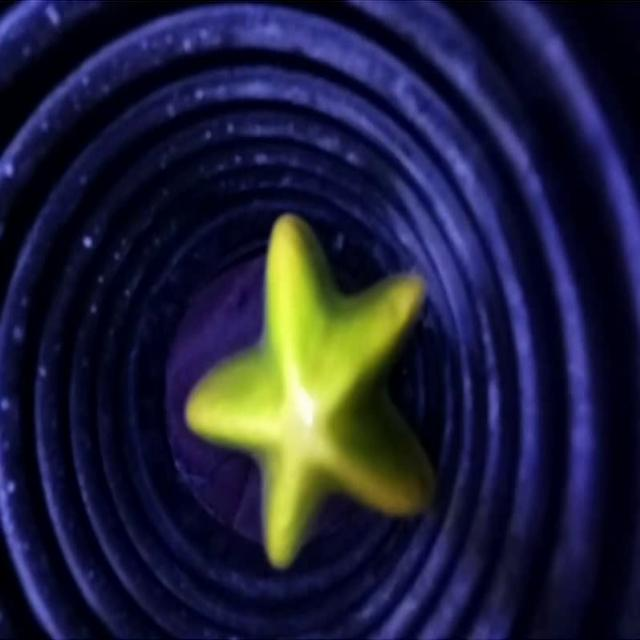block: (164, 264, 376, 540)
obstacles: (183, 211, 439, 566)
